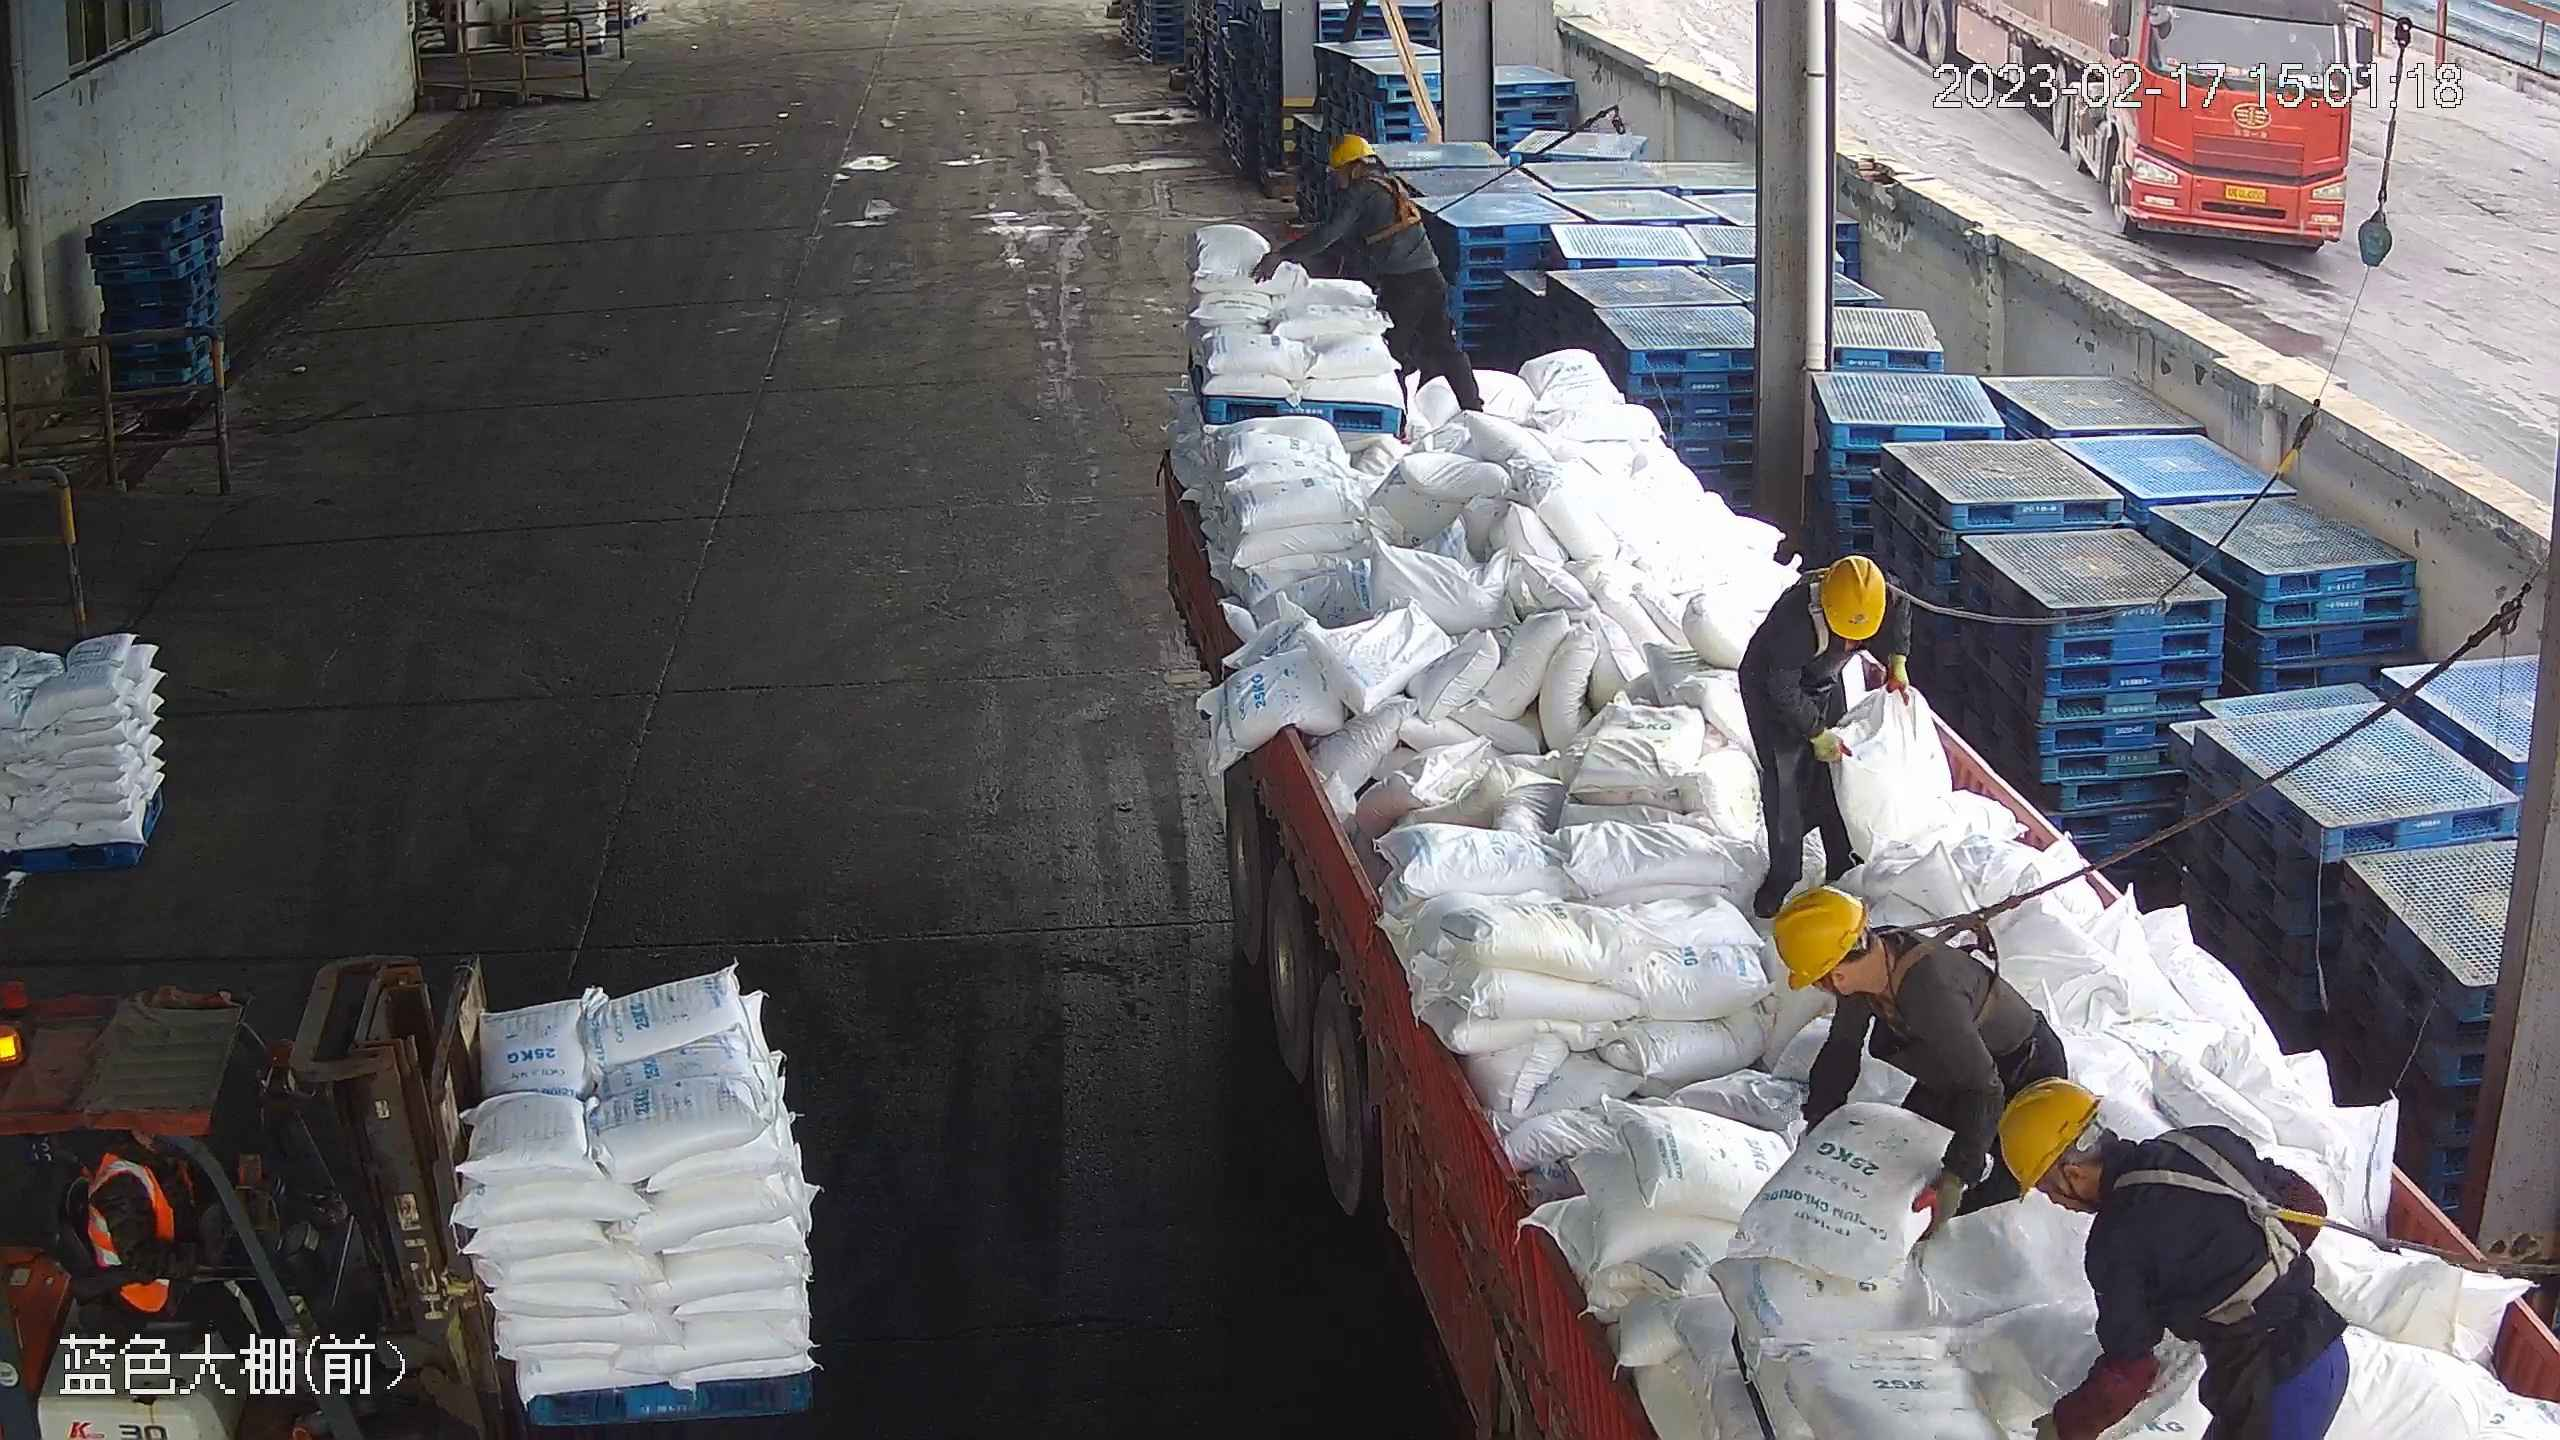belt: (2118, 1115, 2327, 1329), (1873, 898, 2015, 1042), (1360, 167, 1427, 249)
head: (1994, 1079, 2262, 1272), (1772, 884, 1973, 1042), (1759, 551, 1909, 682), (1319, 131, 1413, 218)
helmet: (1995, 1075, 2103, 1198), (1773, 884, 1868, 991), (1813, 554, 1889, 639), (1324, 132, 1377, 174)
people: (1993, 1073, 2352, 1438), (1770, 887, 2074, 1244), (1250, 131, 1487, 424), (1736, 550, 1912, 923)
truck: (1146, 337, 2552, 1440), (1874, 1, 2365, 262)
